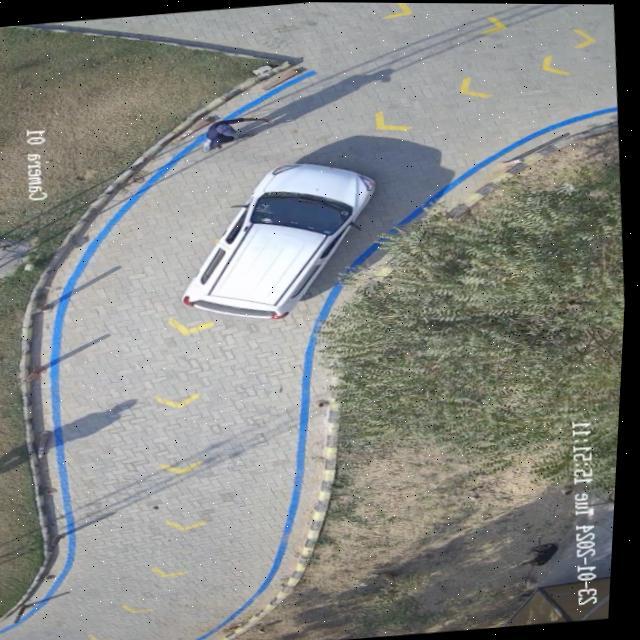car: (187, 163, 376, 318)
